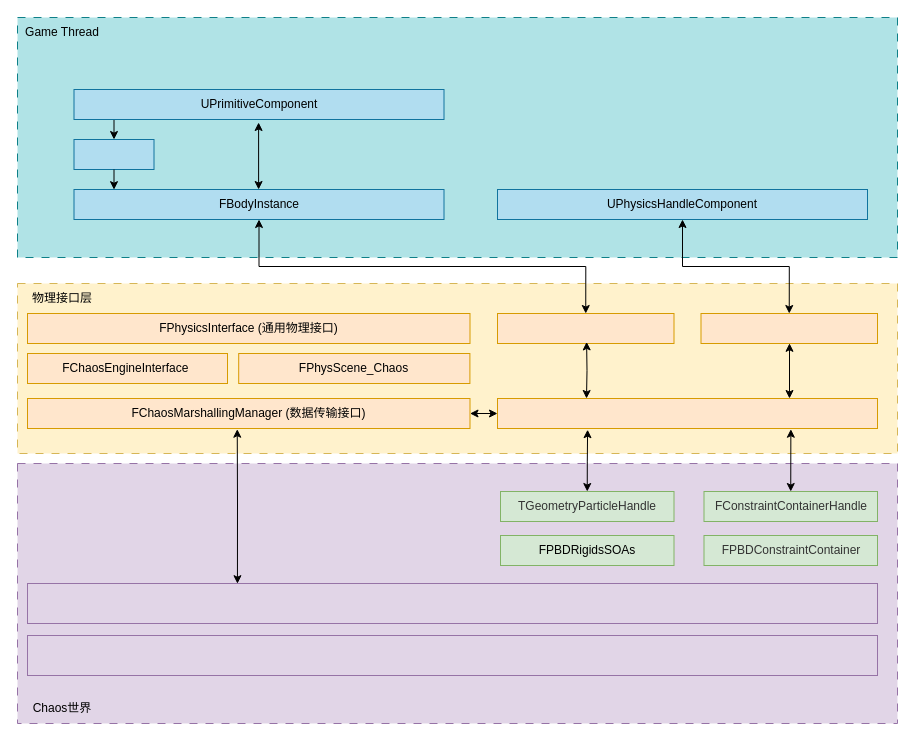
Image size: 915x741. Some labels were removed from this diagram. Each missing label, with the centre of its shape:
FPBDConstraintGroupSolver: [452,603]
FPBDRigidsEvolutionGBF: [452,655]
FPhysicsActorHandle (FSingleParticlePhysicsProxy): [585,328]
FPhysicsConstraintHandle: [789,328]
IPhysicsProxyBase: [687,413]
UBodySetup: [113,154]
